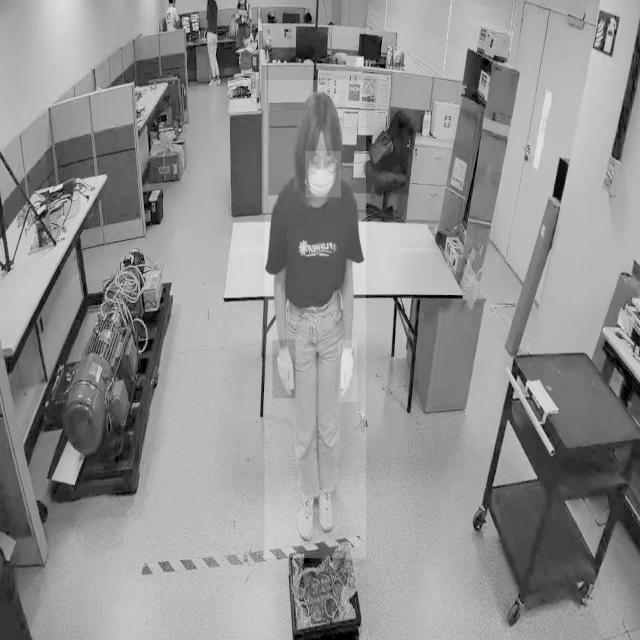face_mask: (305, 151, 341, 197)
hand_glove: (272, 340, 296, 399), (337, 340, 357, 402)
head_nohelmet: (299, 89, 342, 147)
person: (264, 80, 366, 559)
shoes: (316, 476, 338, 534), (296, 482, 316, 544)
